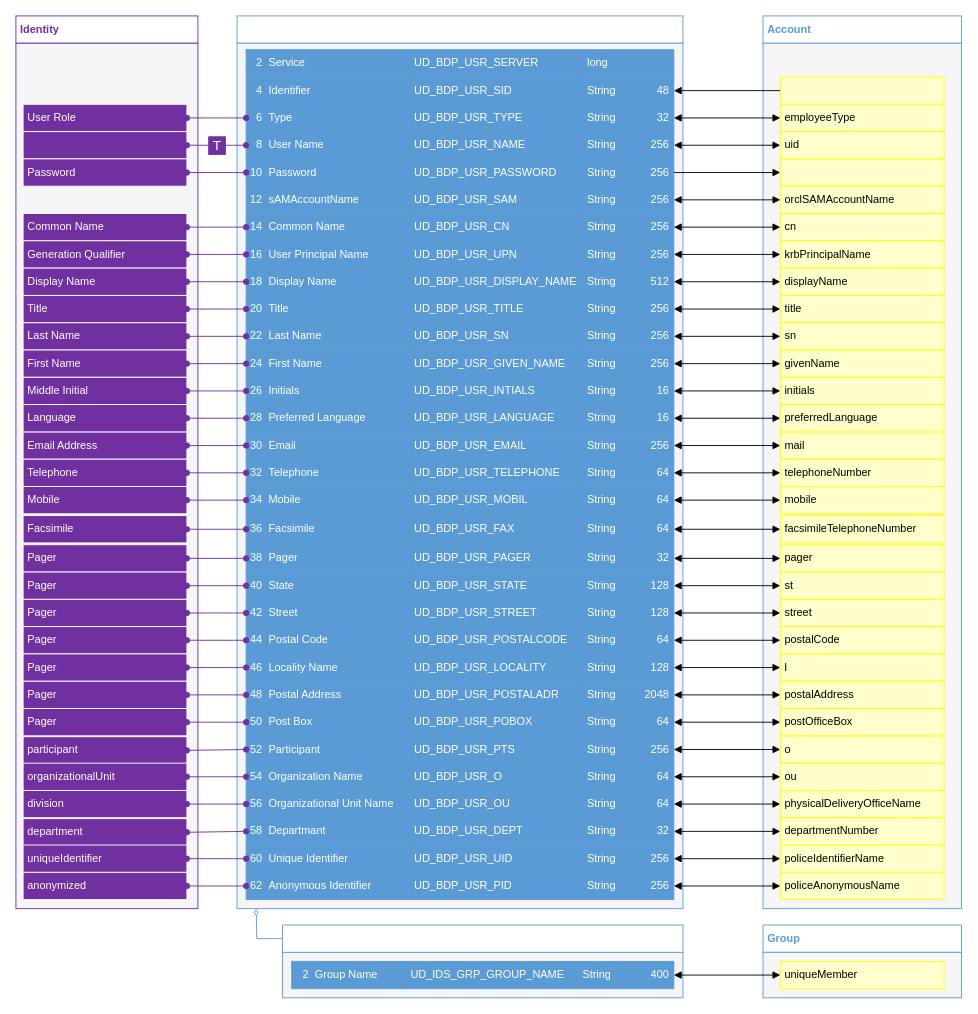
Some shapes in this 978 by 1014 pixel diagram are drawn without their labels. Each missing label, with the centre of its shape:
entryUUID: (x=861, y=90)
IDS Account: (x=459, y=29)
IDS Account Group: (x=482, y=938)
User Login: (x=104, y=145)
userPassword: (x=861, y=172)
